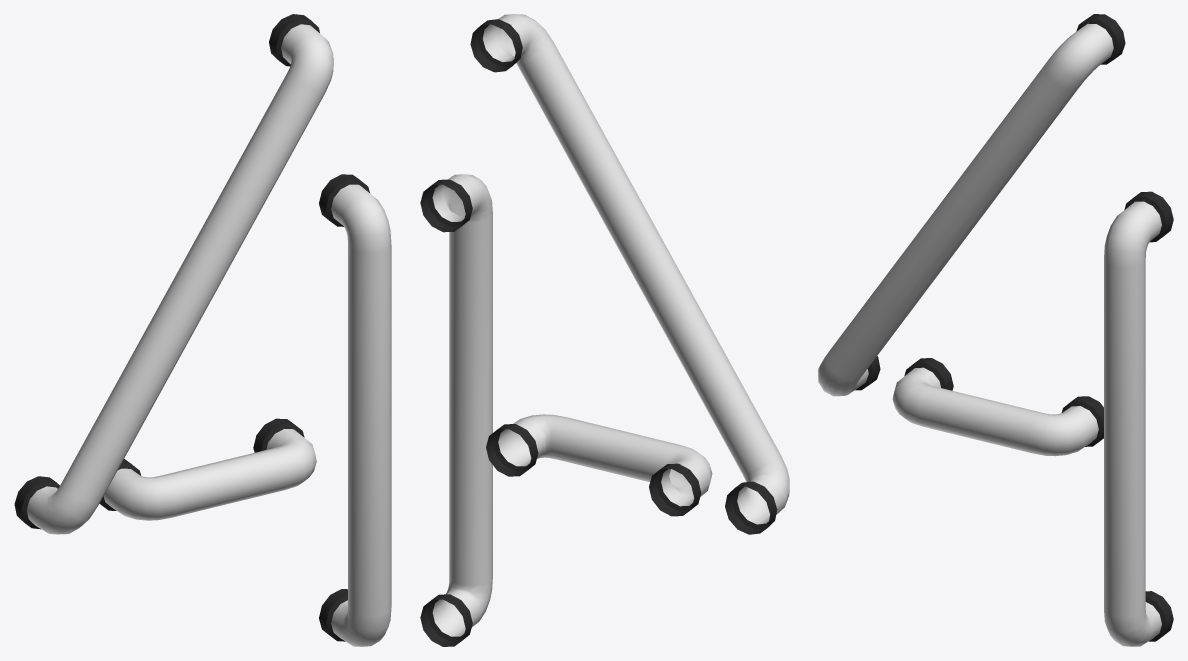
File: LettersNeon01_4.FBX
3 views of the same model, side by side, from view 1: azimuth 30°, elevation 25°; view 2: azimuth 150°, elevation 25°; view 3: azimuth 330°, elevation 25° (orthographic). The views are drawn at different scales.
Visible parts, largest first — view 1: LettersNeon01_4; view 2: LettersNeon01_4; view 3: LettersNeon01_4.
Boxes of the visible parts, bbox=[...] form: LettersNeon01_4: bbox=[14, 14, 391, 646]; LettersNeon01_4: bbox=[420, 14, 789, 646]; LettersNeon01_4: bbox=[818, 14, 1173, 646].
Size of what is drawn, in the model's own units: 0.2795 by 0.4843 by 0.054.
